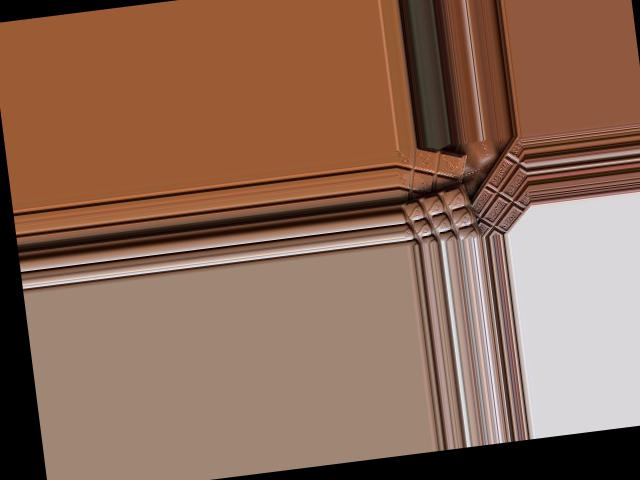chocolate: (394, 147, 471, 212)
